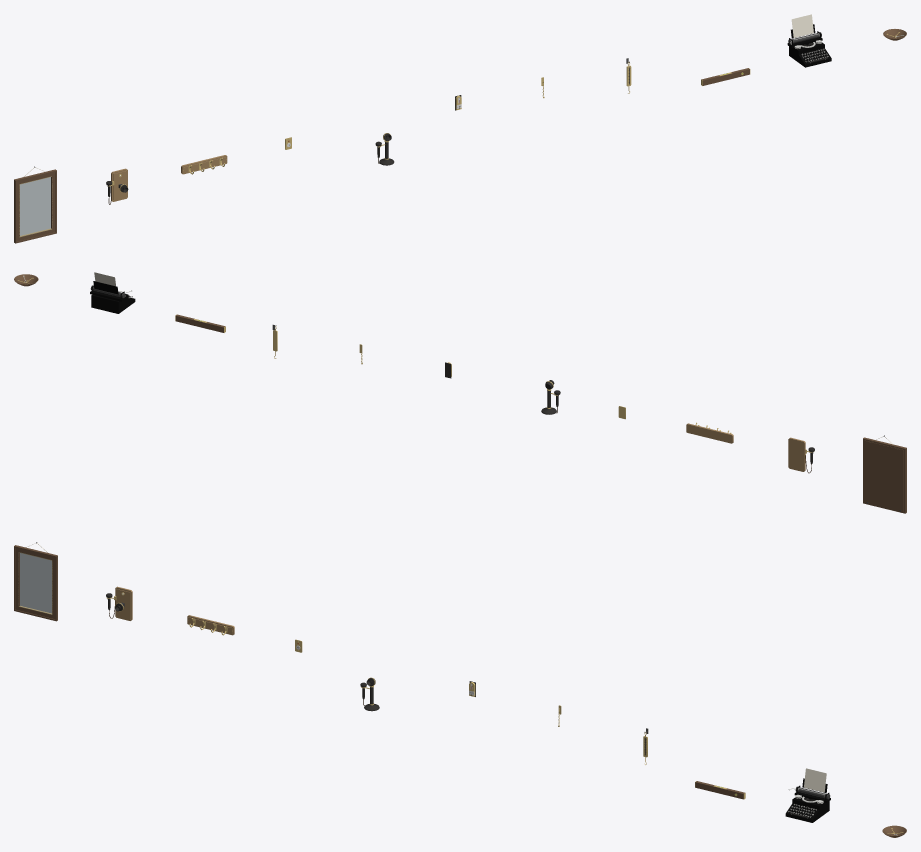
The model's file is possessed_objects.glb.
3 renders of one model, top to bottom at view 1: azimuth 30°, elevation 25°; view 2: azimuth 150°, elevation 25°; view 3: azimuth 330°, elevation 25°, orthographic. The views are drawn at different scales.
Parts seen in each view (by area): view 1: PO_hall_mirror__Mirror_ON_mirror_aged, PO_hall_mirror__Mirror_ON_wood_dark, PO_typewriter__Body_ON_enamel; view 2: PO_hall_mirror__Mirror_ON_wood_dark, PO_house_telephone__Body_ON_oak_quartered, PO_typewriter__Body_ON_enamel; view 3: PO_hall_mirror__Mirror_ON_mirror_aged, PO_hall_mirror__Mirror_ON_wood_dark, PO_typewriter__Body_ON_enamel.
Boxes of the visible parts, x1,y1,x2,y2 form: PO_hall_mirror__Mirror_ON_mirror_aged: (20,177,50,235); PO_hall_mirror__Mirror_ON_wood_dark: (14,169,56,243); PO_typewriter__Body_ON_enamel: (789,42,831,67); PO_hall_mirror__Mirror_ON_wood_dark: (863,437,906,513); PO_house_telephone__Body_ON_oak_quartered: (788,437,805,471); PO_typewriter__Body_ON_enamel: (91,294,135,313); PO_hall_mirror__Mirror_ON_mirror_aged: (20,553,51,613); PO_hall_mirror__Mirror_ON_wood_dark: (14,545,57,621); PO_typewriter__Body_ON_enamel: (785,797,829,822).
Size of the model in its own units: 9.33 by 0.7238 by 0.4025.
